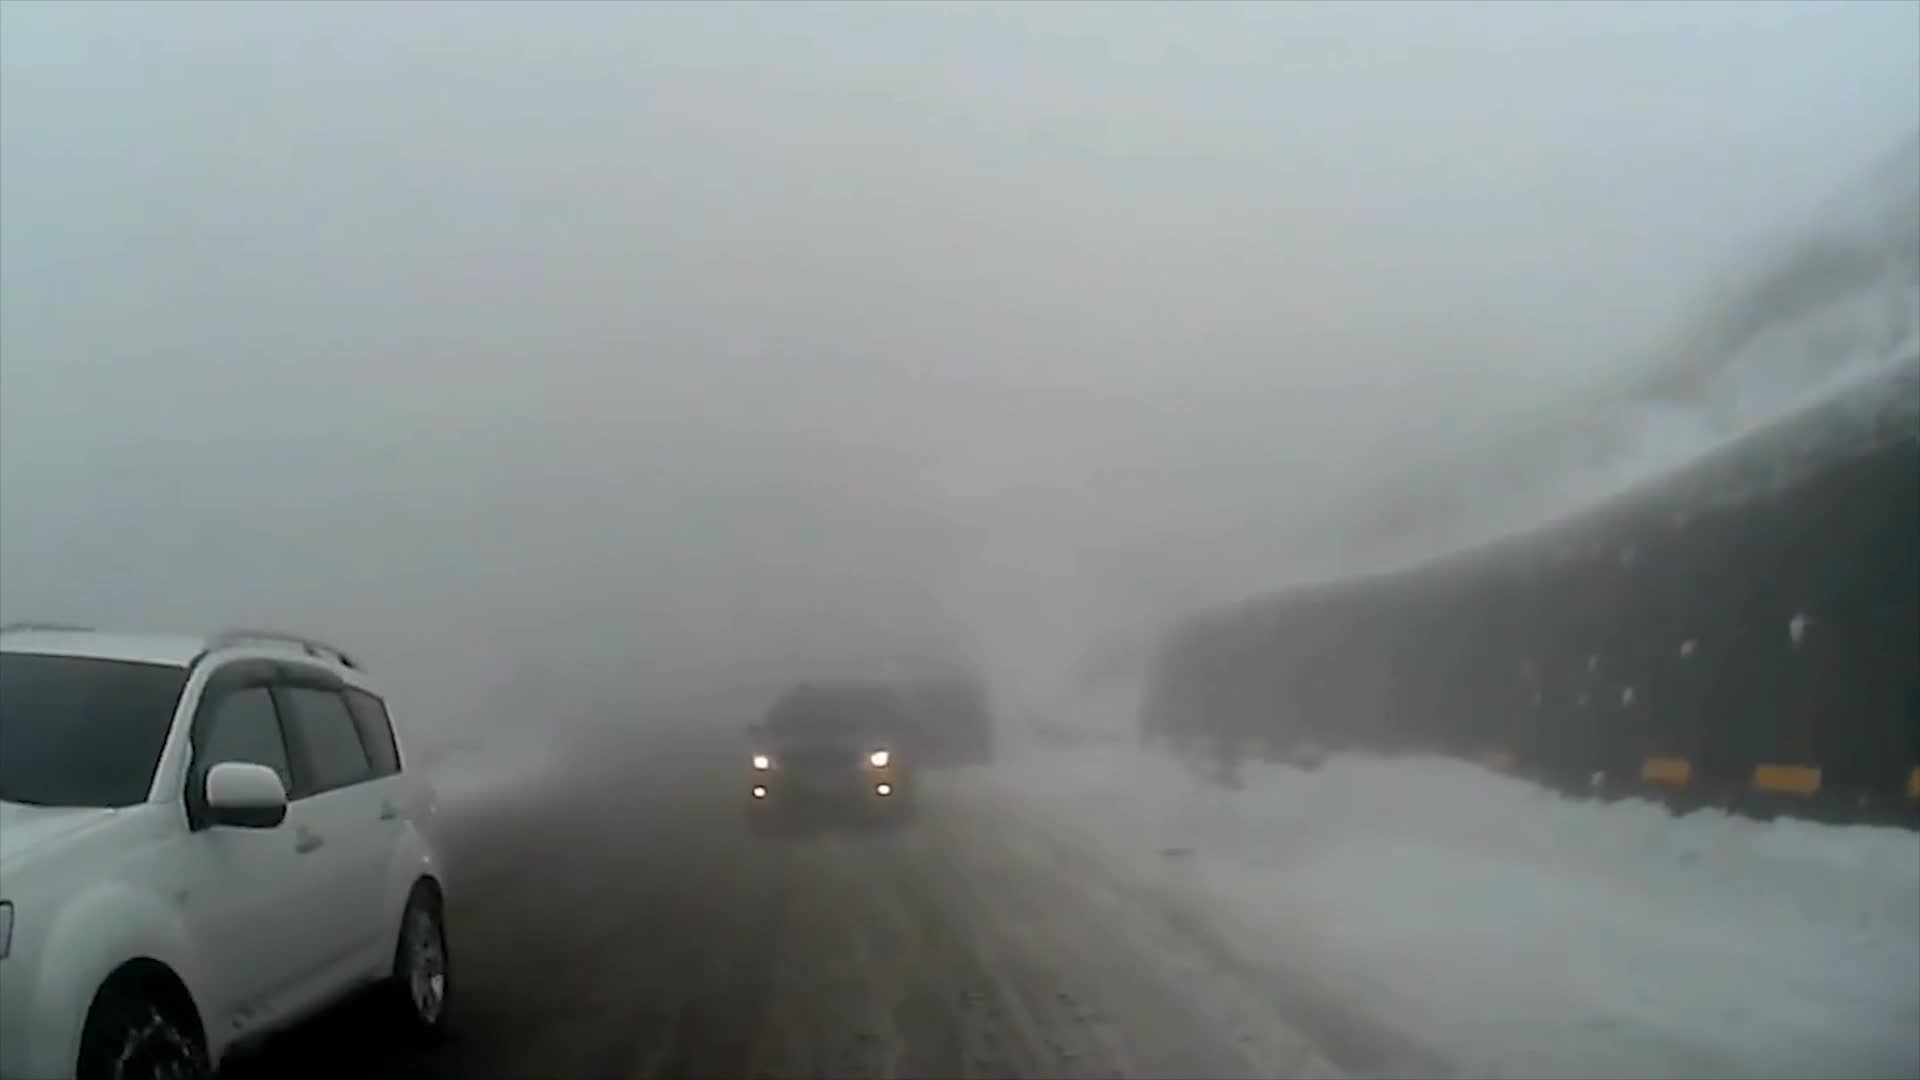vehicle: (0, 617, 455, 1080), (740, 678, 920, 835)
